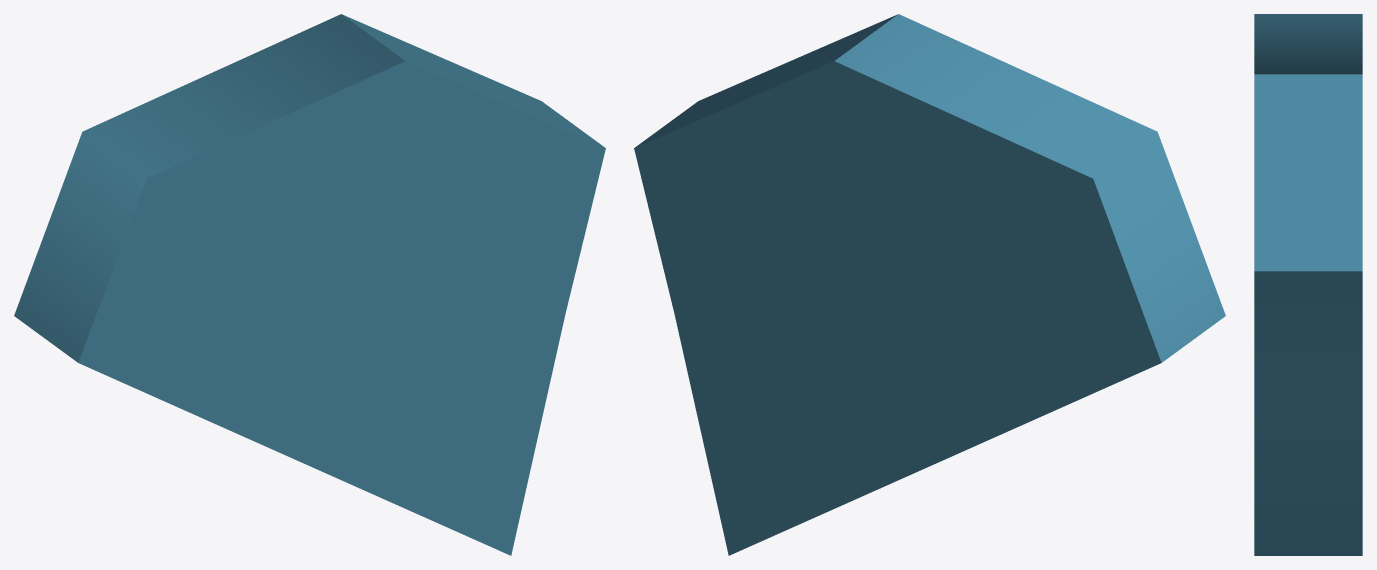
Rendered from NexusA_Trigger_18.fbx.
3 views of the same model, side by side, from view 1: azimuth 30°, elevation 25°; view 2: azimuth 150°, elevation 25°; view 3: azimuth 270°, elevation 25° (orthographic). The views are drawn at different scales.
Parts seen in each view (by area): view 1: pCube40; view 2: pCube40; view 3: pCube40.
Part boxes in pixels (x1=…): pCube40: x1=14, y1=14, x2=605, y2=555; pCube40: x1=634, y1=14, x2=1225, y2=555; pCube40: x1=1254, y1=14, x2=1362, y2=555.
Size of the model in its own units: 40.96 by 38.62 by 8.65.
